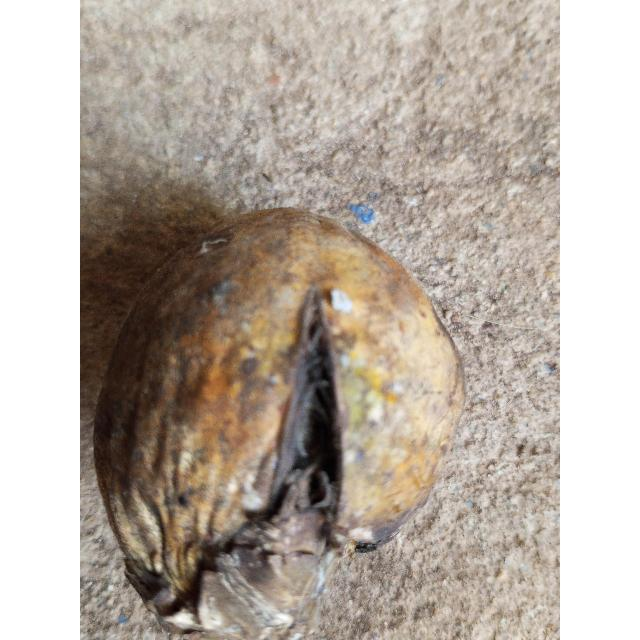damaged: (92, 208, 466, 640)
